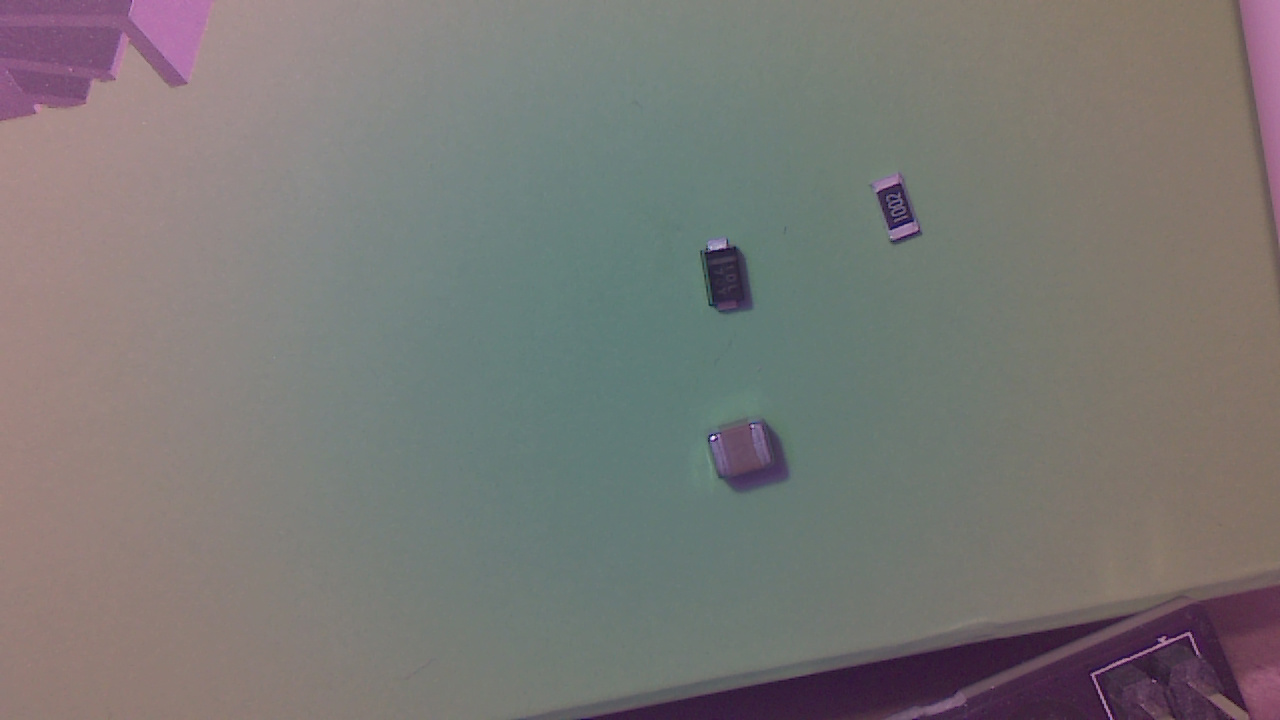Condensator: (714, 426, 781, 490)
Diode: (704, 242, 754, 320)
Resistor: (865, 185, 927, 247)
